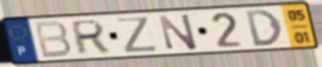2: (210, 11, 245, 49)
B: (32, 19, 74, 60)
D: (243, 8, 285, 48)
N: (156, 12, 200, 51)
R: (70, 18, 111, 57)
Z: (115, 15, 162, 54)
